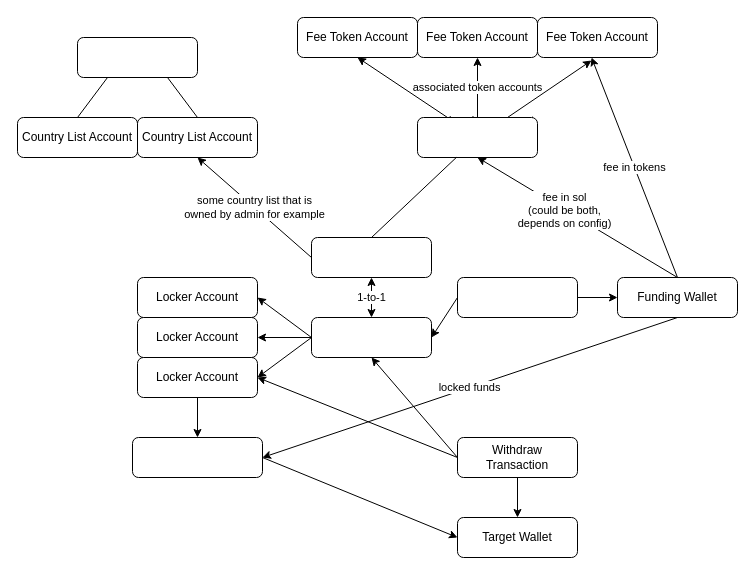
Image size: 755x575. Some labels were removed from this diagram. The centre of each missing label's shape, as x and y in pixels:
"Config Account" belongs at point (371, 257).
"Country List Program" belongs at point (137, 57).
"Create Locker Transaction" belongs at point (517, 297).
"Fee Account" belongs at point (477, 137).
"Locker Program (LP or Token)" belongs at point (371, 337).
"Vault" belongs at point (197, 457).
